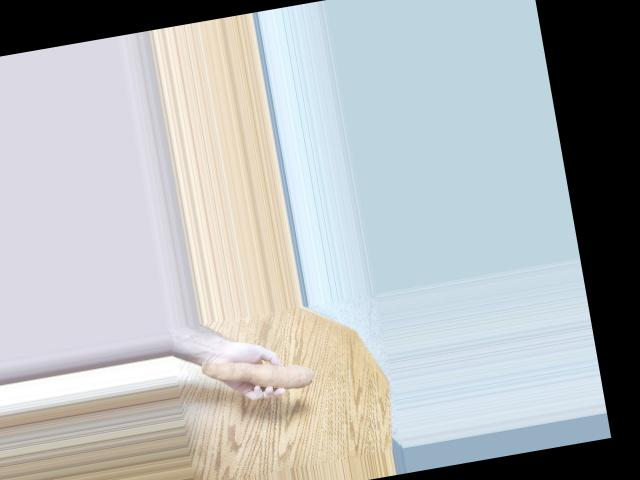sweet_potato: (205, 347, 318, 405)
